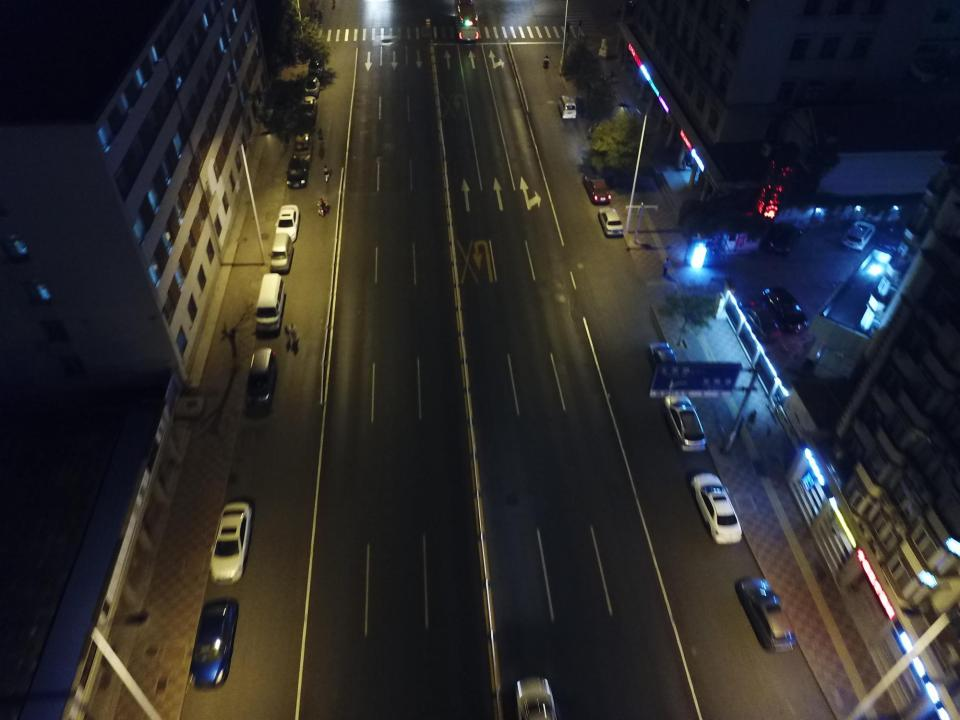bus: (454, 0, 480, 43)
car: (736, 576, 798, 654), (188, 602, 240, 686), (690, 472, 743, 545), (208, 500, 254, 584), (665, 393, 706, 453), (761, 287, 809, 333), (514, 675, 558, 720), (740, 302, 781, 345), (648, 341, 681, 380), (768, 222, 803, 256), (841, 220, 876, 251), (878, 220, 908, 253), (274, 204, 298, 243), (584, 174, 612, 204), (598, 207, 624, 238), (286, 156, 308, 190), (293, 130, 312, 162), (296, 96, 317, 124), (306, 53, 326, 79), (302, 76, 320, 99)
van: (245, 347, 277, 409), (254, 272, 284, 332), (270, 232, 294, 273), (558, 95, 578, 120)
